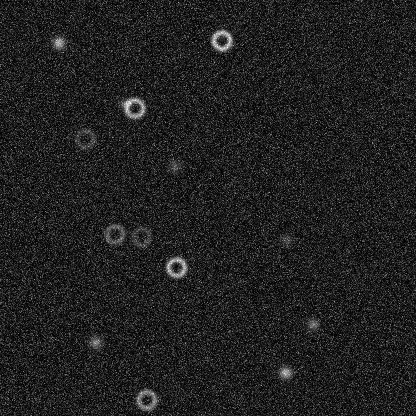Ring: (129, 224, 153, 248), (102, 222, 126, 246), (134, 387, 158, 411), (122, 95, 146, 119), (164, 255, 188, 279), (73, 126, 97, 150), (209, 28, 233, 52)
Spot: (304, 316, 320, 332), (166, 157, 182, 173), (277, 364, 293, 380), (87, 334, 103, 350), (278, 232, 294, 248), (117, 95, 133, 111), (50, 34, 66, 50)
